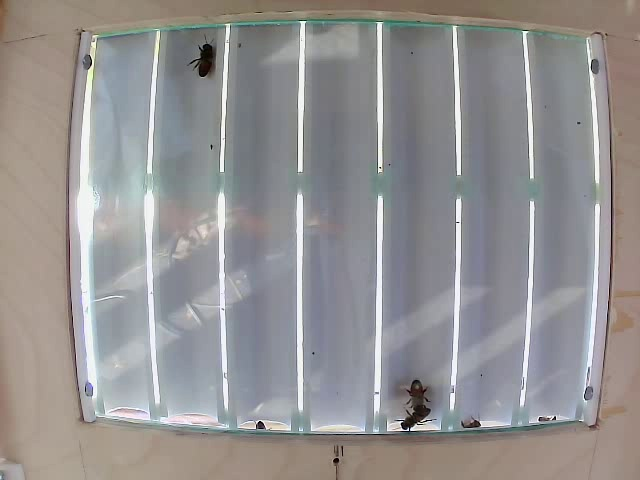bee: (402, 376, 436, 431), (188, 37, 223, 90)
